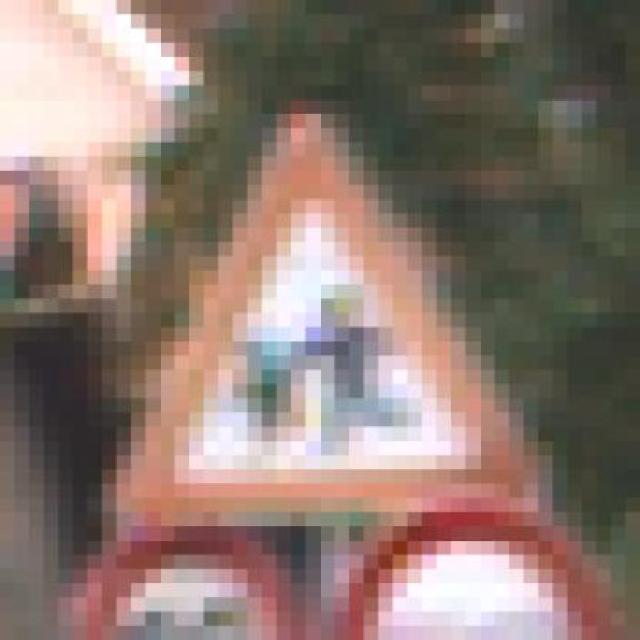Beware of children: (88, 114, 538, 526)
